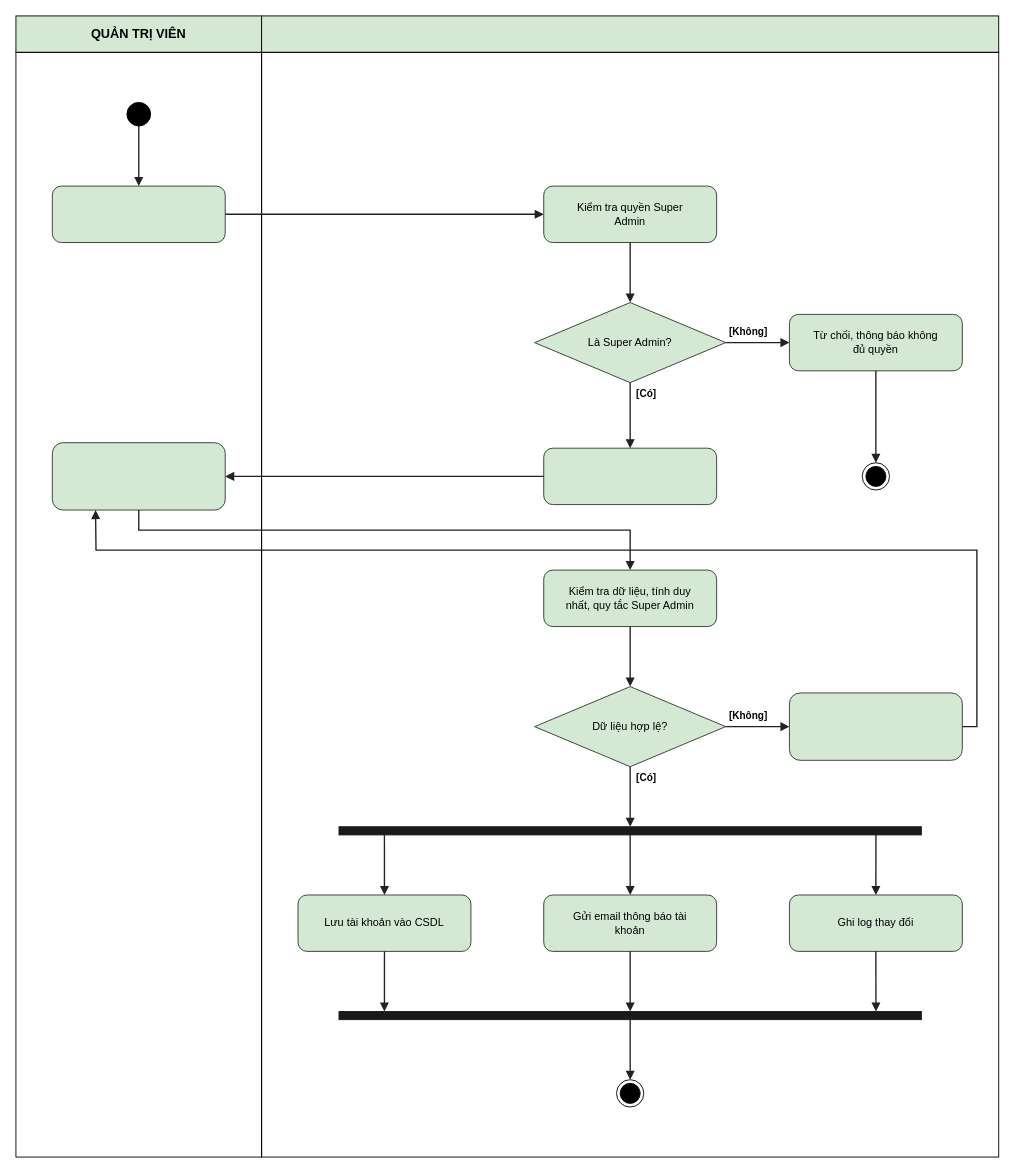
Some shapes in this 1015 by 1173 pixel diagram are drawn without their labels. Each missing label, with the centre of its shape:
Hiển thị danh sách tài khoản và vai trò: point 630,476
HỆ THỐNG: point 630,33
Thêm, sửa, khóa hoặc xóa tài khoản, chọn vai trò, click "Lưu": point 138,476
Thông báo trùng, thiếu thông tin hoặc từ chối thao tác: point 875,726
Vào "Tài khoản quản trị": point 138,214
